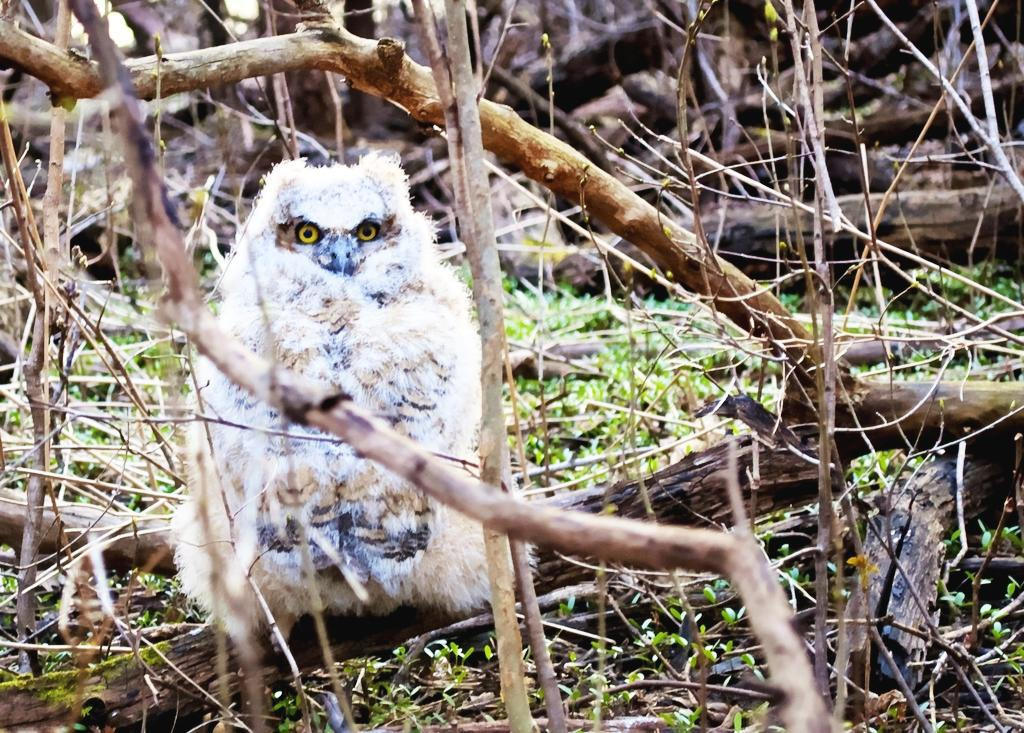Owl: (157, 146, 541, 660)
